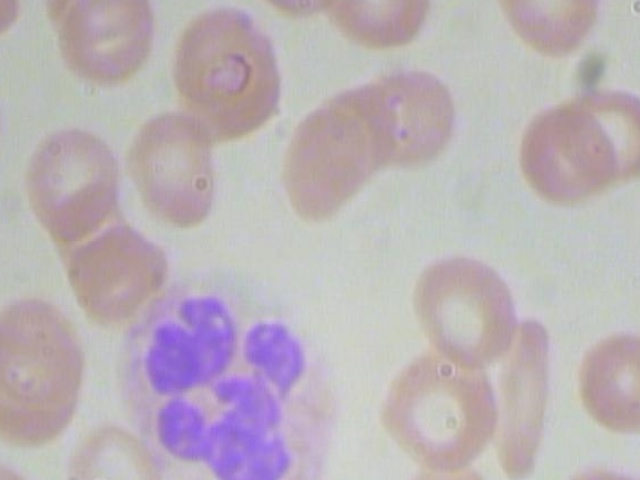RBC: (363, 347, 502, 476), (410, 244, 525, 365), (368, 61, 476, 178), (18, 119, 122, 235), (123, 106, 216, 233), (510, 95, 618, 204), (284, 103, 371, 227), (494, 304, 551, 479), (0, 286, 85, 400), (0, 343, 82, 453), (562, 85, 640, 188), (569, 324, 640, 437), (58, 422, 166, 480)
WBC: (108, 279, 354, 480)
